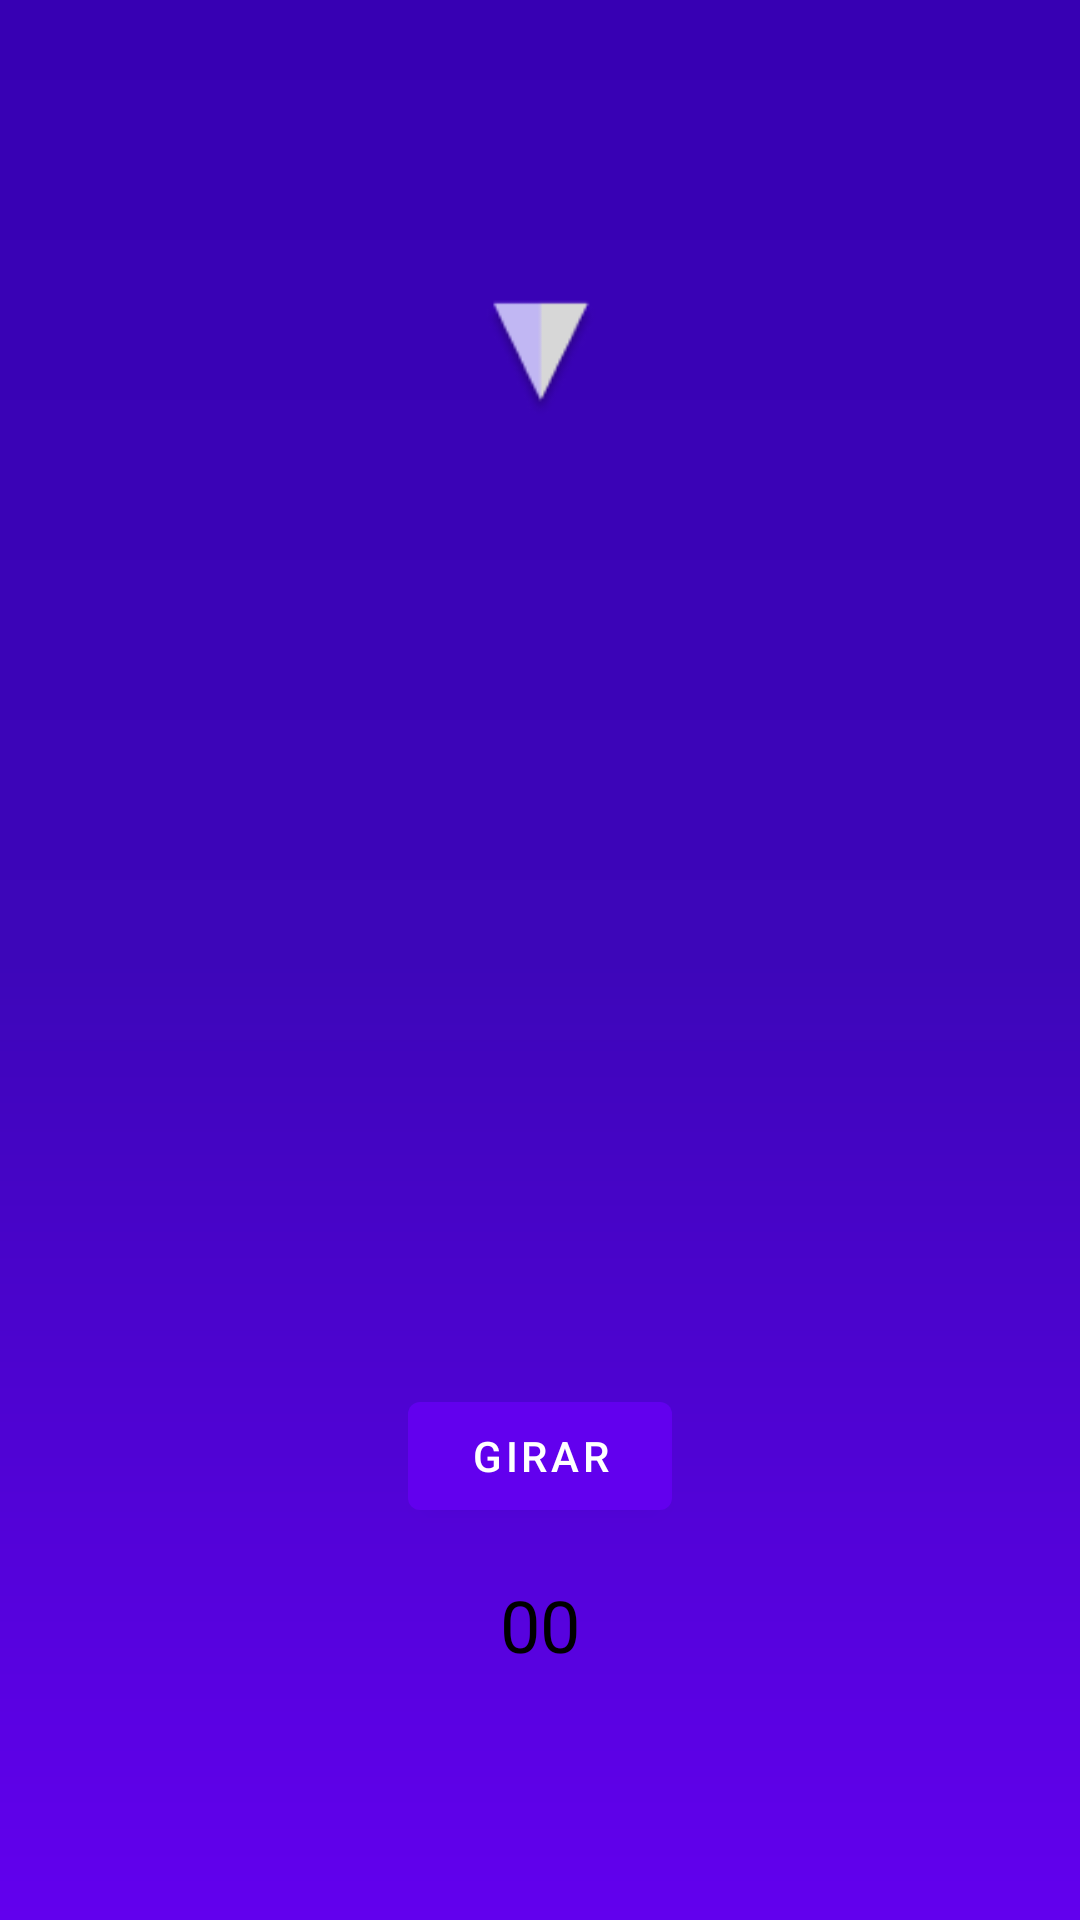

Icon bounding boxes for this 1080 × 1920 phone screenshot, format (x1, y1, x2, y2):
flecha: (493, 302, 589, 403)
